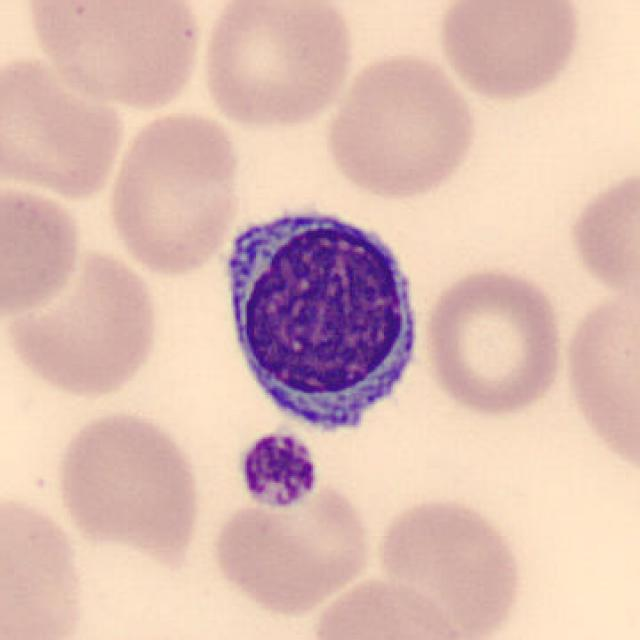Lymphocyte: (208, 190, 430, 442)
Platelets: (233, 427, 322, 513)
RBC: (2, 240, 165, 400), (320, 48, 482, 201), (50, 406, 206, 564), (206, 476, 377, 619), (103, 108, 245, 278), (418, 262, 567, 420), (372, 492, 528, 638), (198, 0, 358, 132), (0, 46, 130, 203), (23, 0, 206, 111), (558, 284, 638, 485), (434, 0, 586, 104), (0, 486, 90, 640), (0, 176, 87, 321), (307, 573, 473, 640), (564, 159, 638, 305)
